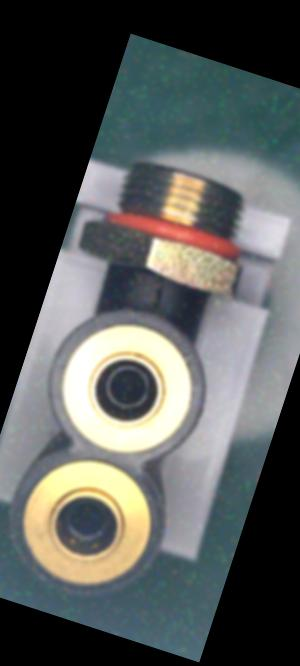craze: (140, 272, 179, 320)
